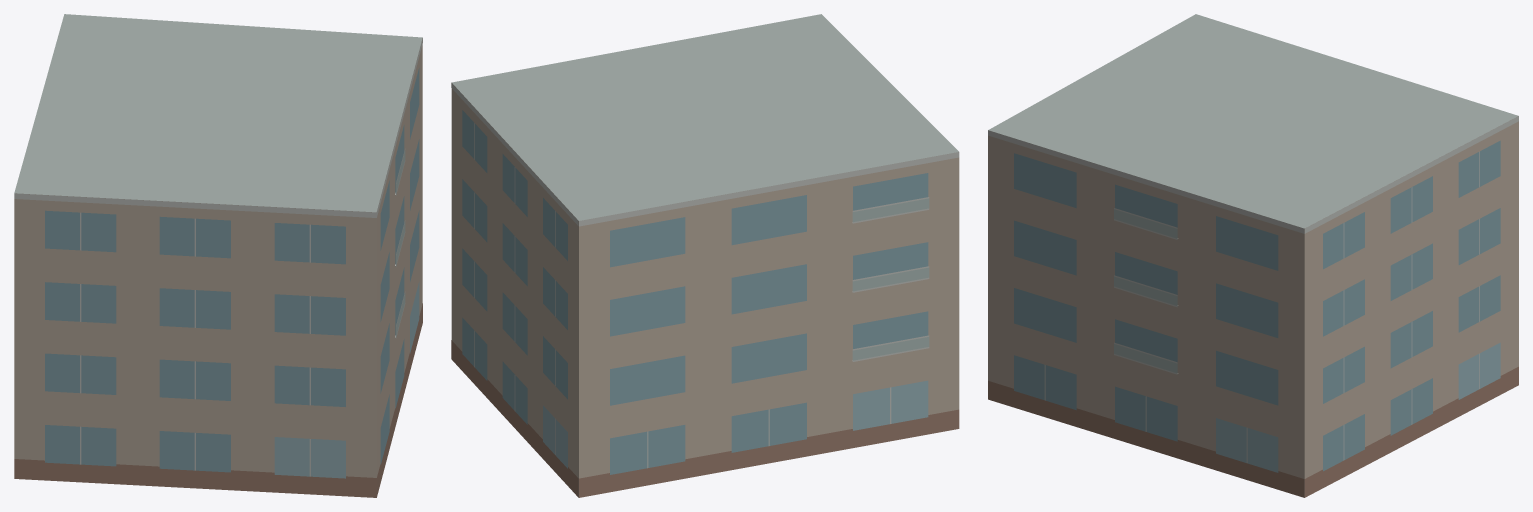
The model's file is survey-upis-32953125.glb.
3 views of the same model, side by side, from view 1: azimuth 30°, elevation 25°; view 2: azimuth 150°, elevation 25°; view 3: azimuth 270°, elevation 25° (orthographic). The views are drawn at different scales.
Parts seen in each view (by area): view 1: survey-upis-32953125.tmp; view 2: survey-upis-32953125.tmp; view 3: survey-upis-32953125.tmp.
Part boxes in pixels (box(x1,y1,x2,y2)): survey-upis-32953125.tmp: box(14, 14, 422, 497); survey-upis-32953125.tmp: box(451, 14, 959, 497); survey-upis-32953125.tmp: box(988, 14, 1518, 497).
Size of the model in its own units: 20.85 by 12.2 by 21.8.
